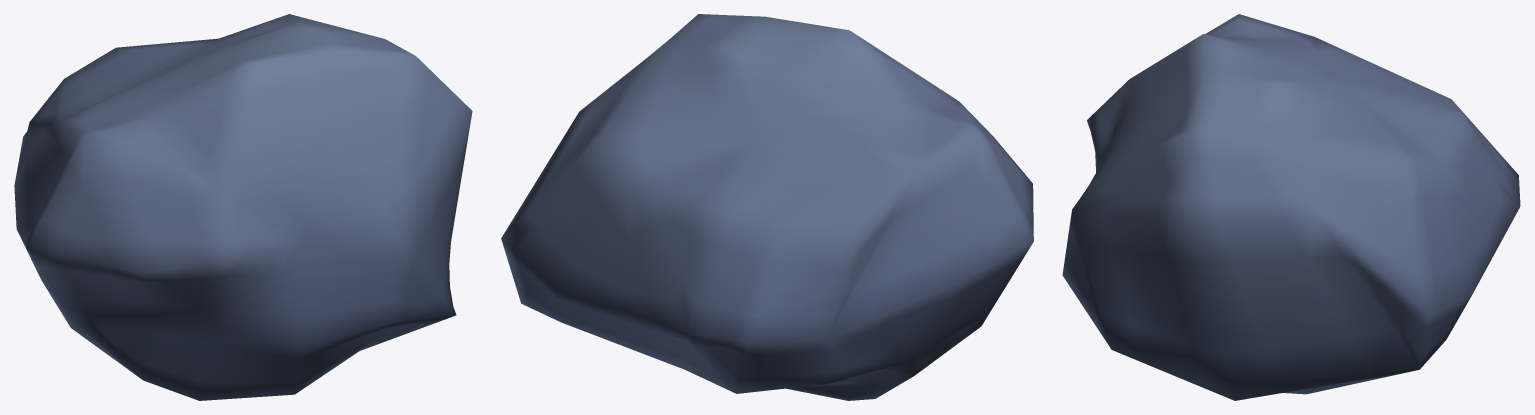
Rendered from SM_Hill_Rock_01.fbx.
3 views of the same model, side by side, from view 1: azimuth 30°, elevation 25°; view 2: azimuth 150°, elevation 25°; view 3: azimuth 270°, elevation 25° (orthographic). The views are drawn at different scales.
Parts seen in each view (by area): view 1: Cube.009; view 2: Cube.009; view 3: Cube.009.
Part boxes in pixels (x1,y1,x2,y2): Cube.009: (14, 14, 472, 400); Cube.009: (501, 14, 1033, 400); Cube.009: (1062, 14, 1520, 400).
Size of the model in its own units: 591 by 422 by 560.
1 material, 1 textured.
